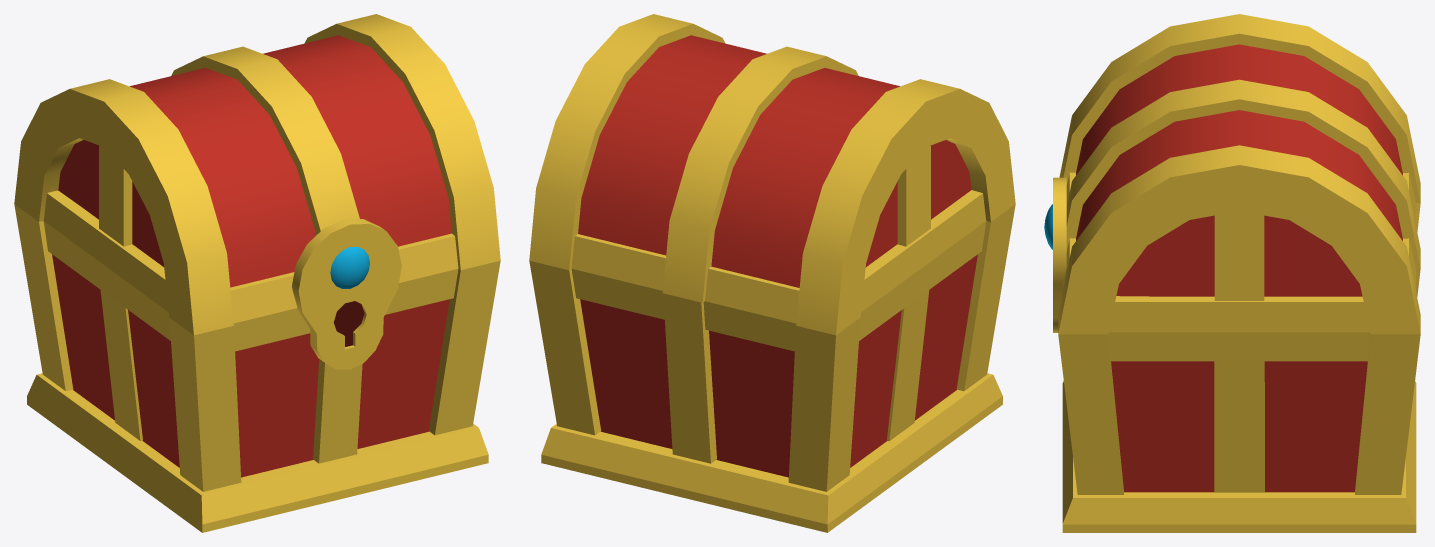
File: baoxiang.FBX
3 views of the same model, side by side, from view 1: azimuth 30°, elevation 25°; view 2: azimuth 150°, elevation 25°; view 3: azimuth 270°, elevation 25° (orthographic).
Parts seen in each view (by area): view 1: 宝箱; view 2: 宝箱; view 3: 宝箱.
Part boxes in pixels (left/top/right/bottom): 宝箱: left=14, top=14, right=500, bottom=532; 宝箱: left=529, top=14, right=1015, bottom=532; 宝箱: left=1044, top=14, right=1420, bottom=532.
Size of the model in its own units: 91.92 by 106 by 96.86.
